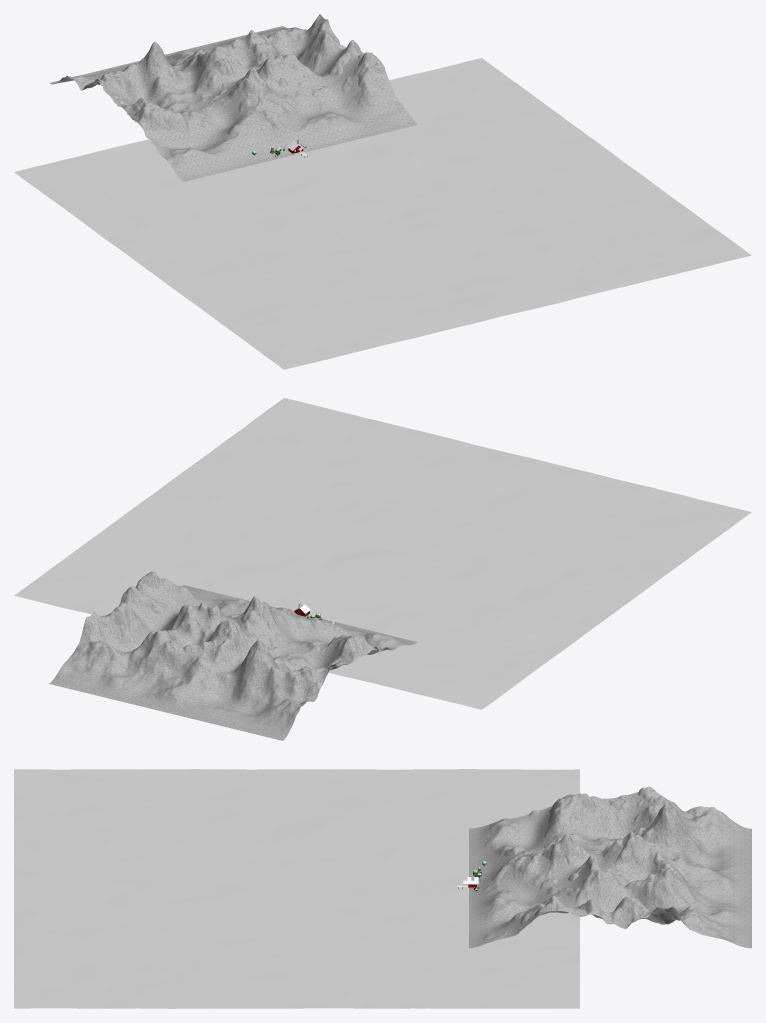
3 renders of one model, top to bottom at view 1: azimuth 30°, elevation 25°; view 2: azimuth 150°, elevation 25°; view 3: azimuth 270°, elevation 25°, orthographic. The views are drawn at different scales.
Visible parts, largest first — view 1: Plane, Landscape.001, Landscape; view 2: Plane, Landscape.001, Landscape; view 3: Plane, Landscape.001, Landscape.
Part boxes in pixels (<box>): Plane: <box>14,58,751,369</box>; Landscape.001: <box>49,14,410,181</box>; Landscape: <box>55,17,417,181</box>; Plane: <box>14,398,751,709</box>; Landscape.001: <box>49,571,415,740</box>; Landscape: <box>76,585,417,739</box>; Plane: <box>14,769,579,1008</box>; Landscape.001: <box>470,786,751,948</box>; Landscape: <box>469,791,715,948</box>.
Size of the model in its own units: 200 by 23.25 by 261.
Materials: 13 (11 with a texture image).
